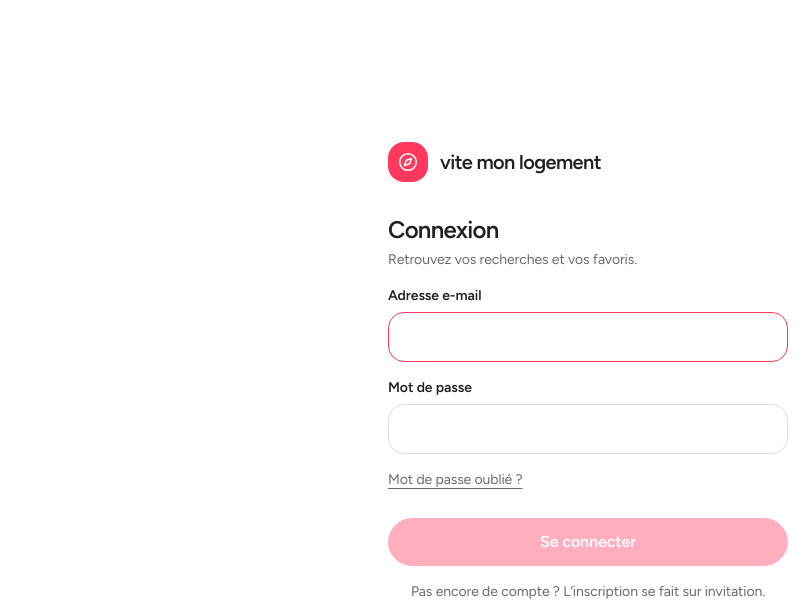
it: AuthGate : connexion › envoie e-mail et mot de passe, puis ouvre l’application
Check: the heading "Connexion" is shown, box [388,215,499,244]
In the field labelled "Adresse e-mail": (588, 337) [388,312,788,362], type "Moi@Example.com"
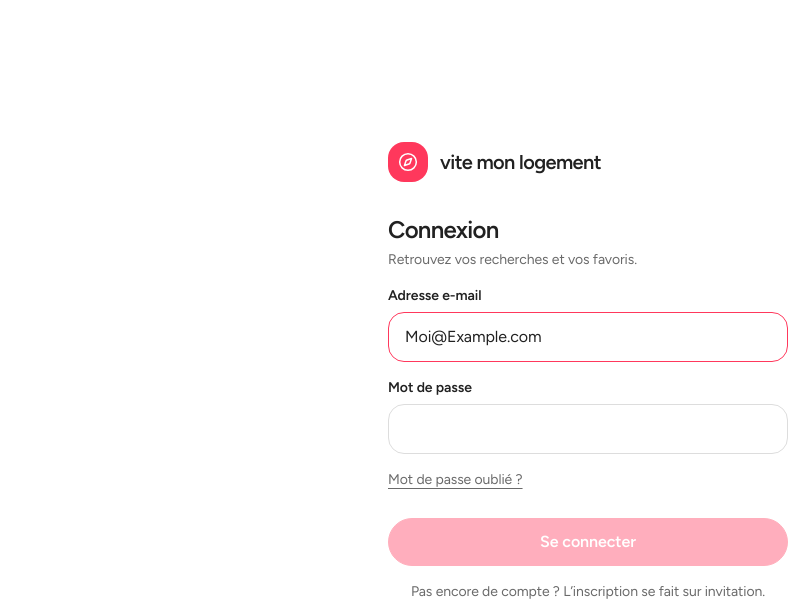
In the password field labelled "Mot de passe": (588, 429) [388,404,788,454], type "motdepasse-1"
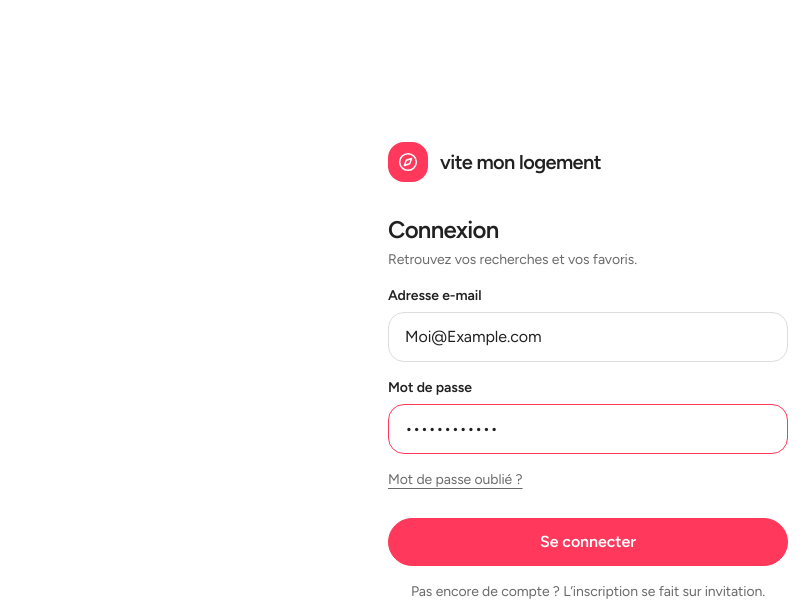
Click the button "Se connecter": (588, 542) [388,518,788,566]
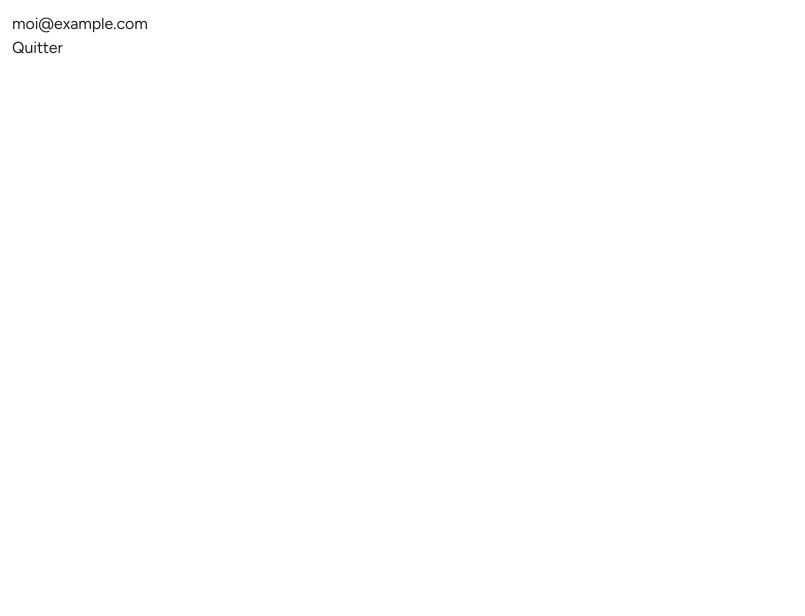
Check: the text with test id "who" reads "moi@example.com", box [12,14,148,33]
